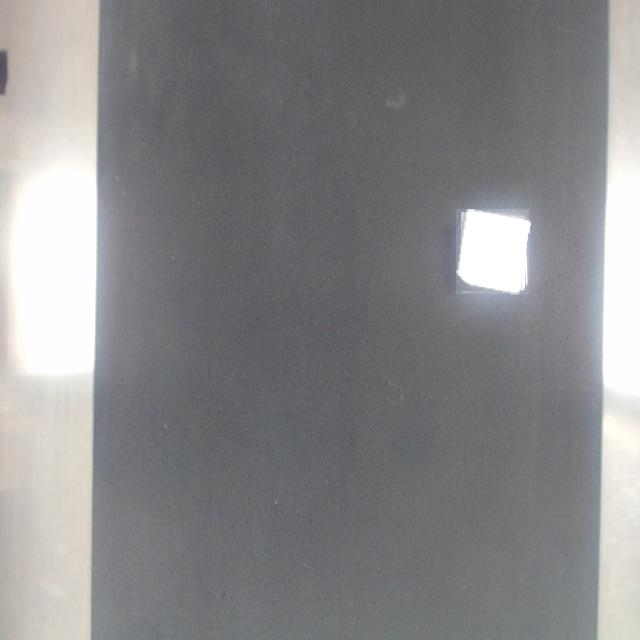Blanco: (457, 210, 529, 294)
